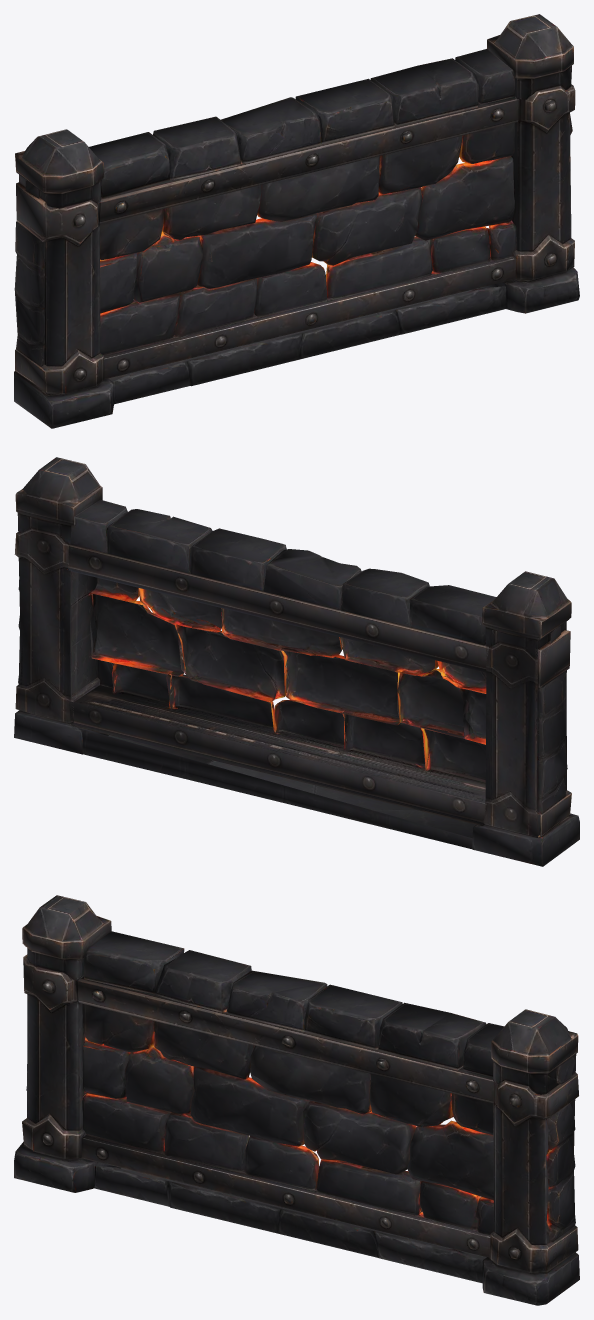
File: dp_f_mur.glb
The picture shows the model from 3 angles, top to bottom: view 1: azimuth 30°, elevation 25°; view 2: azimuth 150°, elevation 25°; view 3: azimuth 330°, elevation 25°; orthographic projection.
Bounding box in the file's own units: 0.9595 × 0.46 × 0.1171.
Materials: 1 (1 with a texture image).
